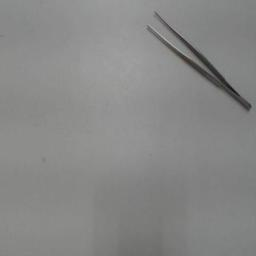Gillies Toothed Dissector: (143, 5, 253, 113)
